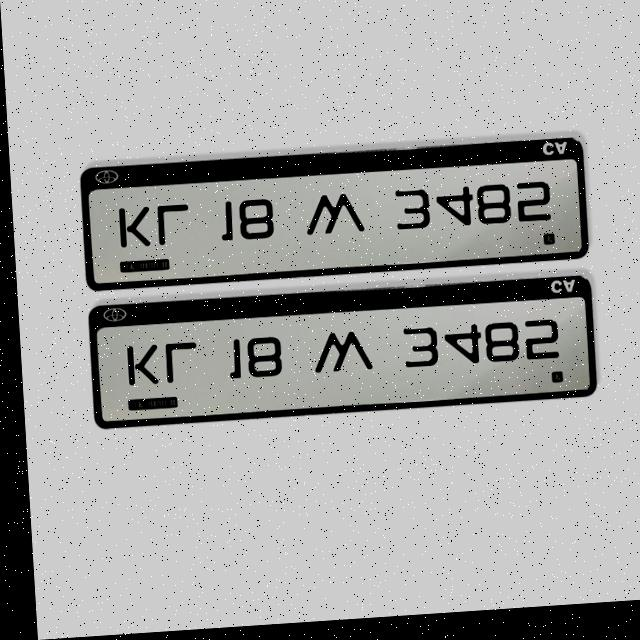plate: (73, 142, 589, 293), (85, 282, 592, 431)
